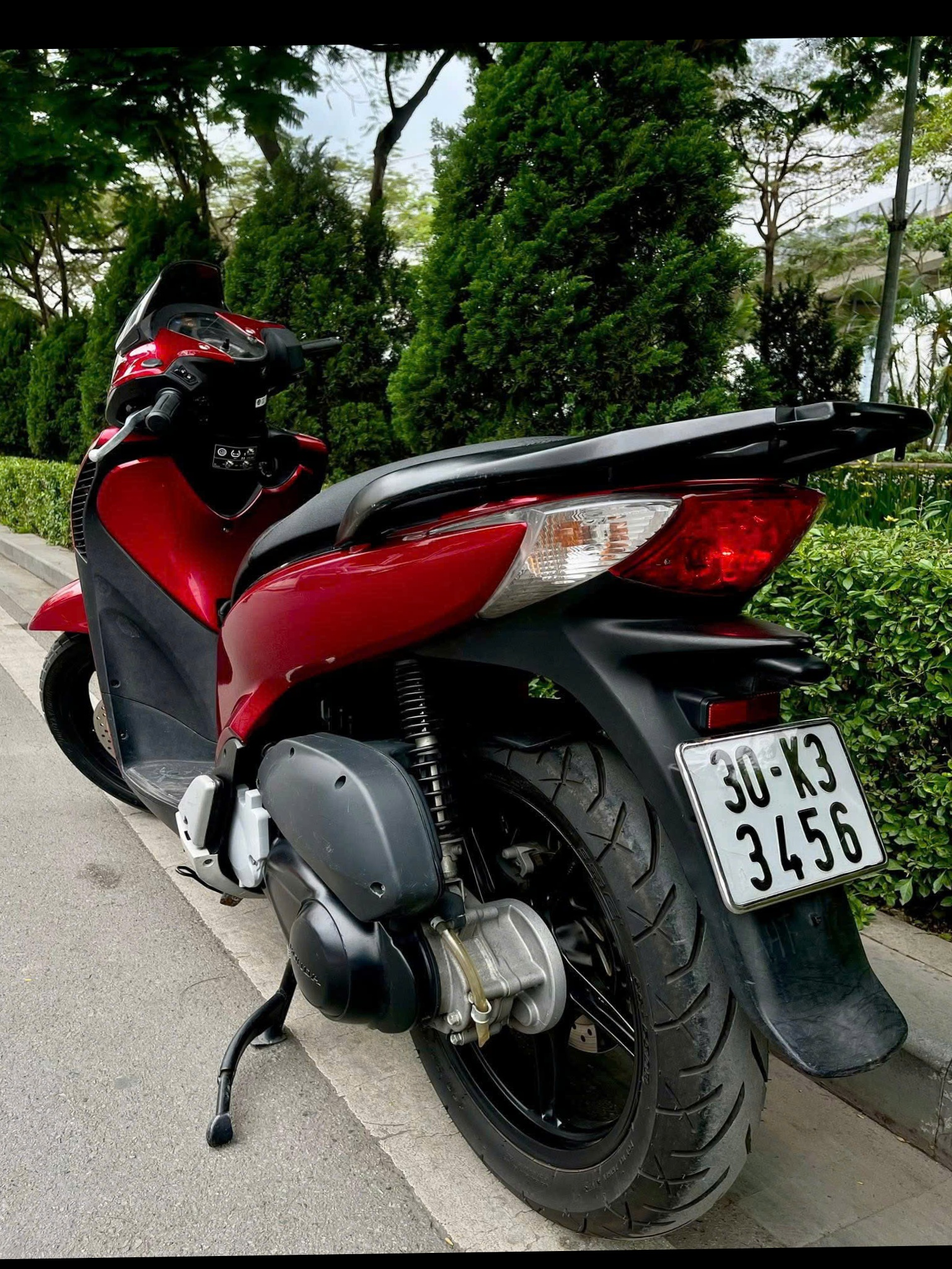Bien-so: (681, 700, 891, 905)
